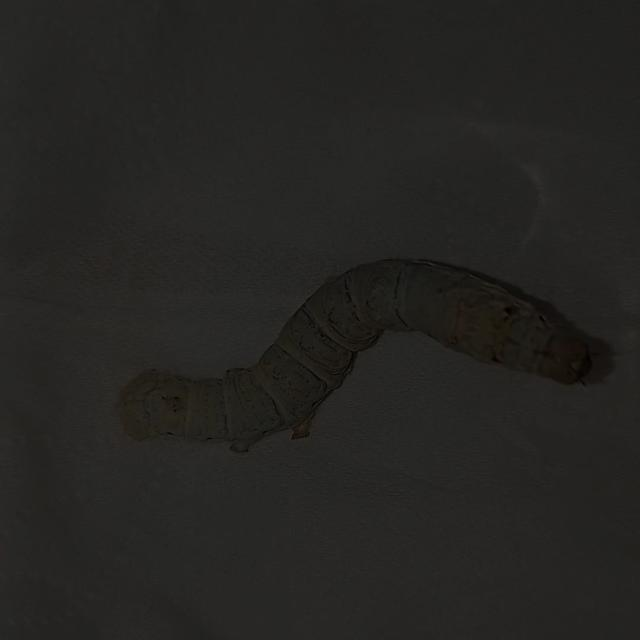Healthy: (106, 243, 598, 459)
